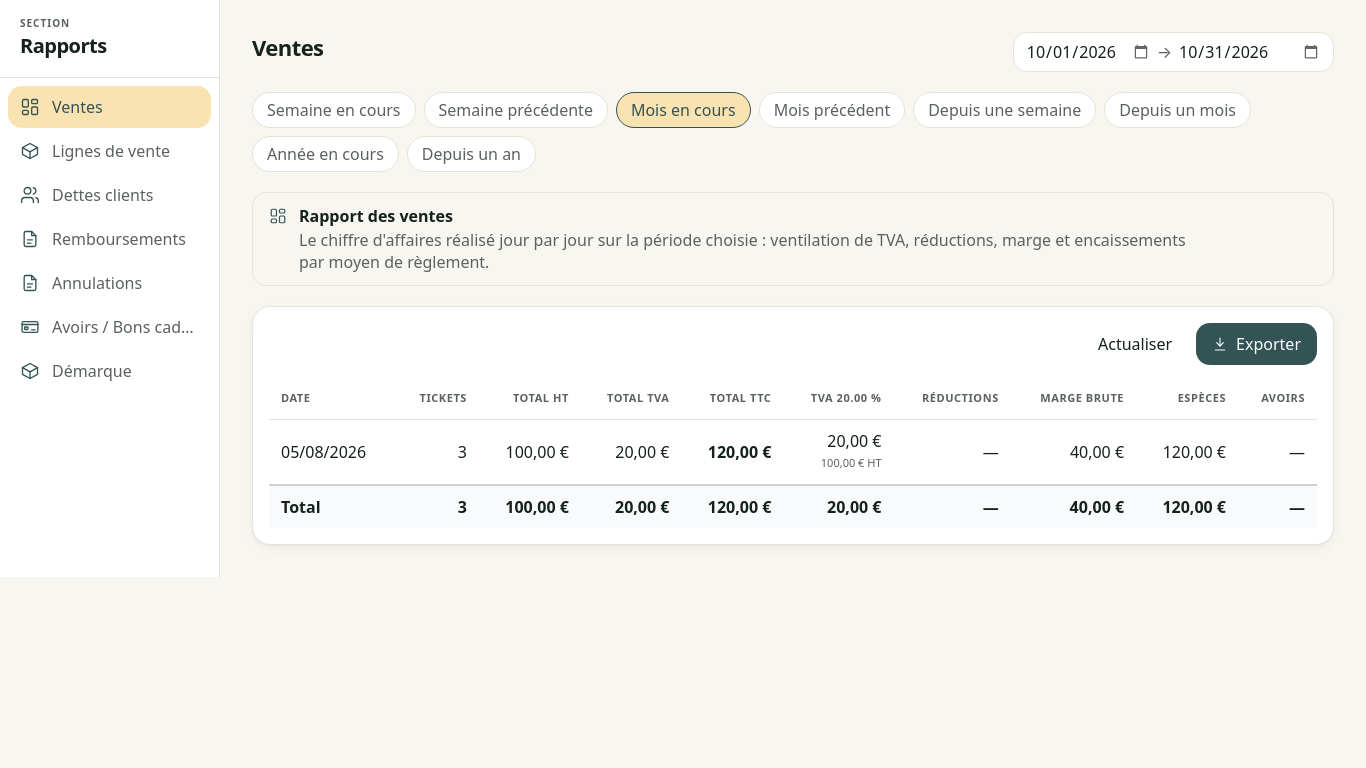
it: Rapports du back-office › ignore une réponse tardive appartenant à un onglet quitté
Click the button "Lignes de vente".
click(110, 151)  # box [8,130,211,172]
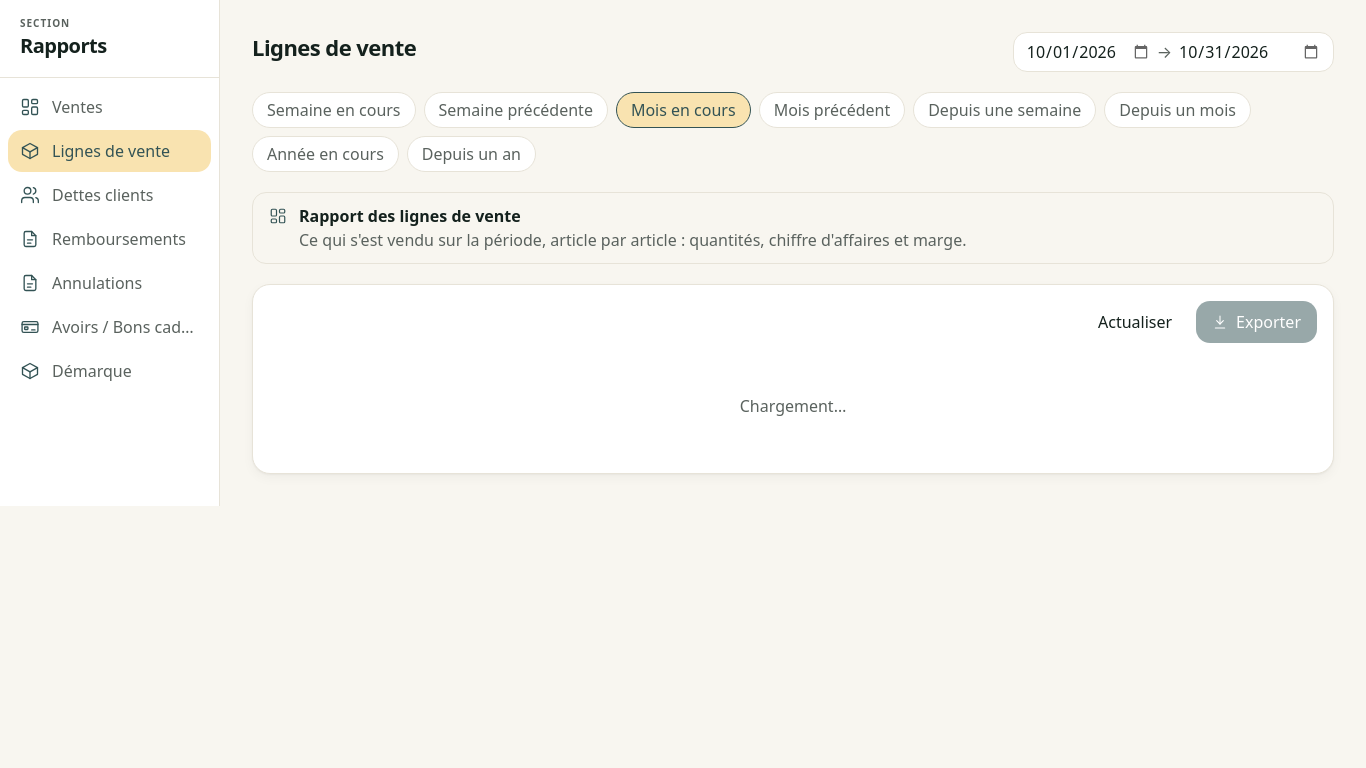
Click the button "Annulations".
click(110, 283)  # box [8,262,211,304]
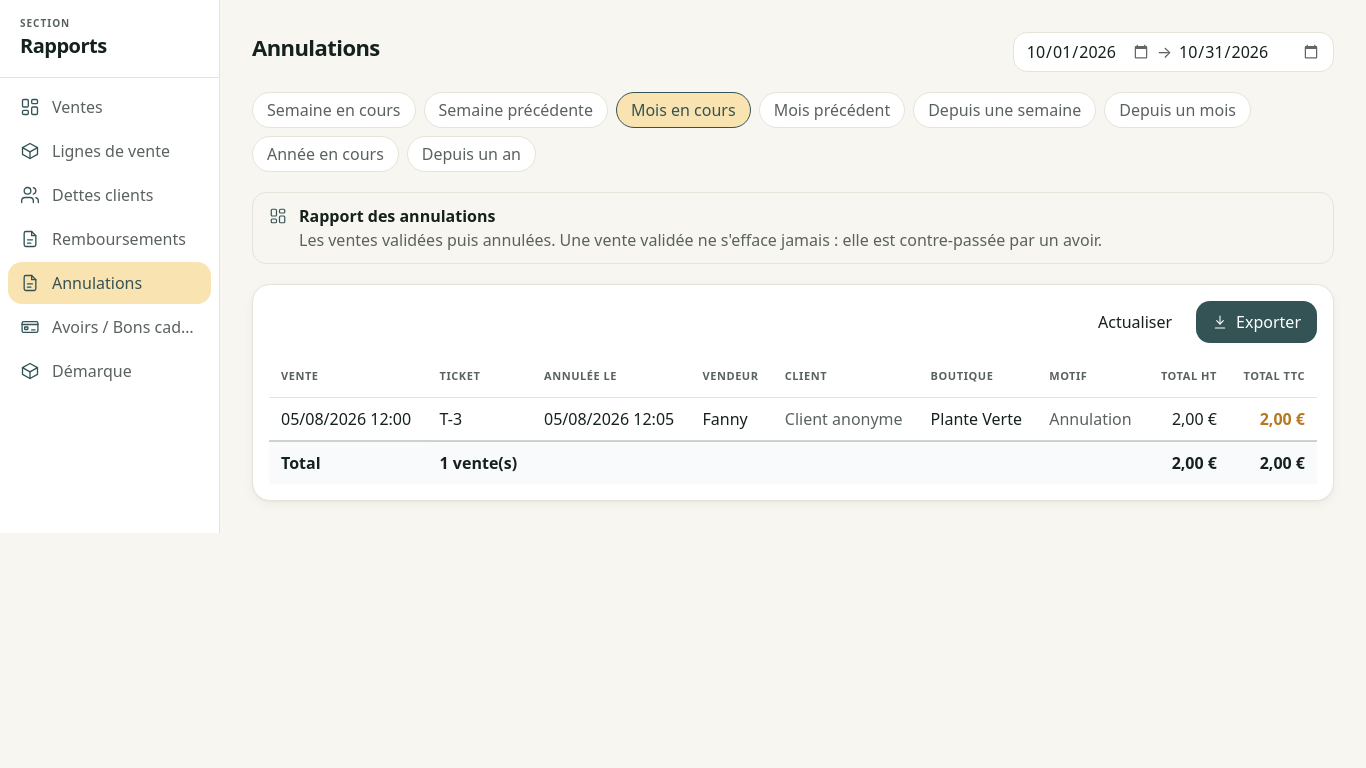
Expected: the heading "Annulations" is shown, [252,32,380,62]
